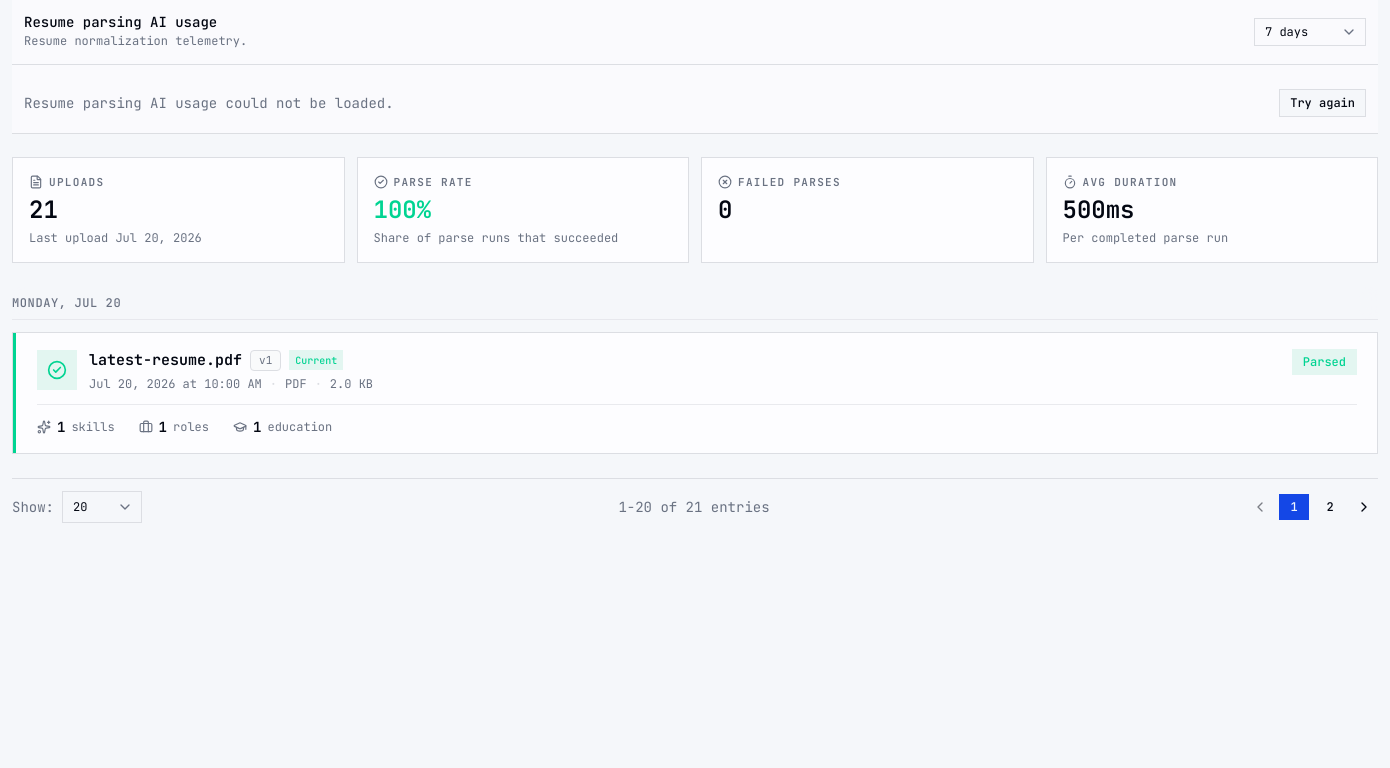
ResumeHistoryPage › requests and renders later pages with the shared pagination control
The image size is (1390, 768).
Check: the heading "latest-resume.pdf" is shown, box x1=89 y1=349 x2=242 y2=372
Check: the navigation bar named "Resume history pagination" is shown, box x1=12 y1=478 x2=1378 y2=522
Step 1. Click the button named "Page 2" → (1330, 506), box x1=1314 y1=492 x2=1346 y2=520
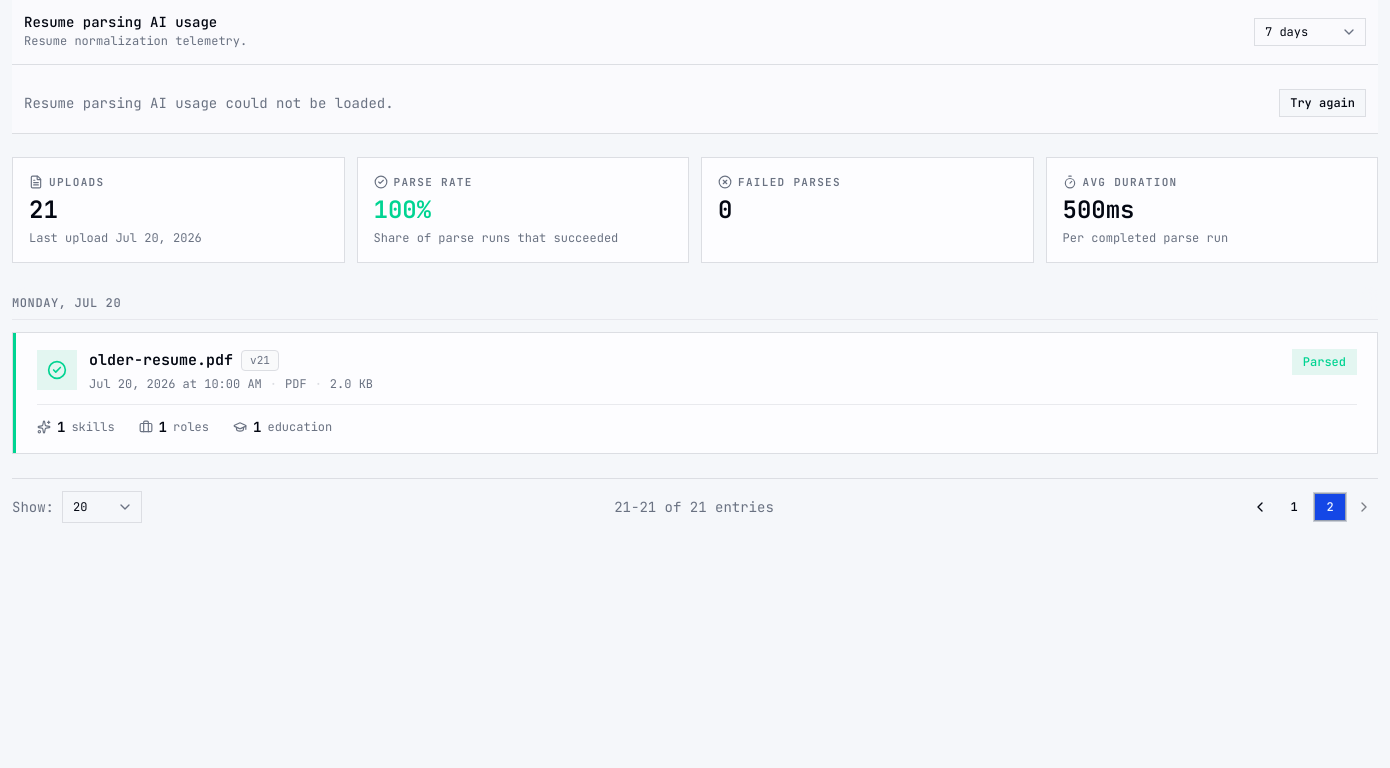
Check: the heading "older-resume.pdf" is shown, box x1=89 y1=349 x2=233 y2=372
Check: the text "21-21 of 21 entries" is shown, box x1=614 y1=496 x2=774 y2=516
